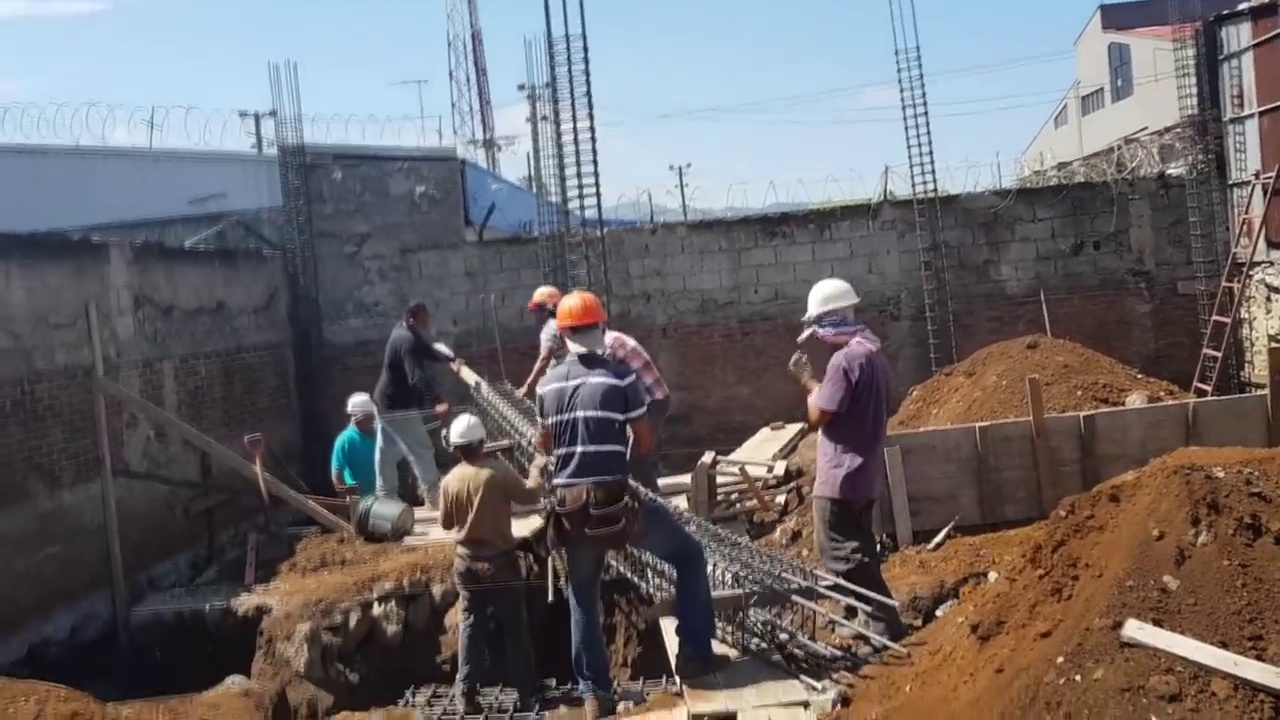helmet: (798, 273, 862, 323), (556, 290, 608, 331), (447, 414, 484, 447), (346, 396, 381, 425), (526, 286, 560, 315)
helmet-off: (398, 304, 427, 340)
helmet-on: (797, 276, 864, 361), (553, 295, 610, 359), (445, 414, 485, 465), (345, 394, 382, 435), (526, 284, 559, 328)
person: (551, 286, 728, 713), (789, 274, 904, 672), (435, 417, 544, 699), (381, 304, 455, 492), (584, 316, 674, 460), (329, 392, 407, 508), (515, 284, 574, 400)
